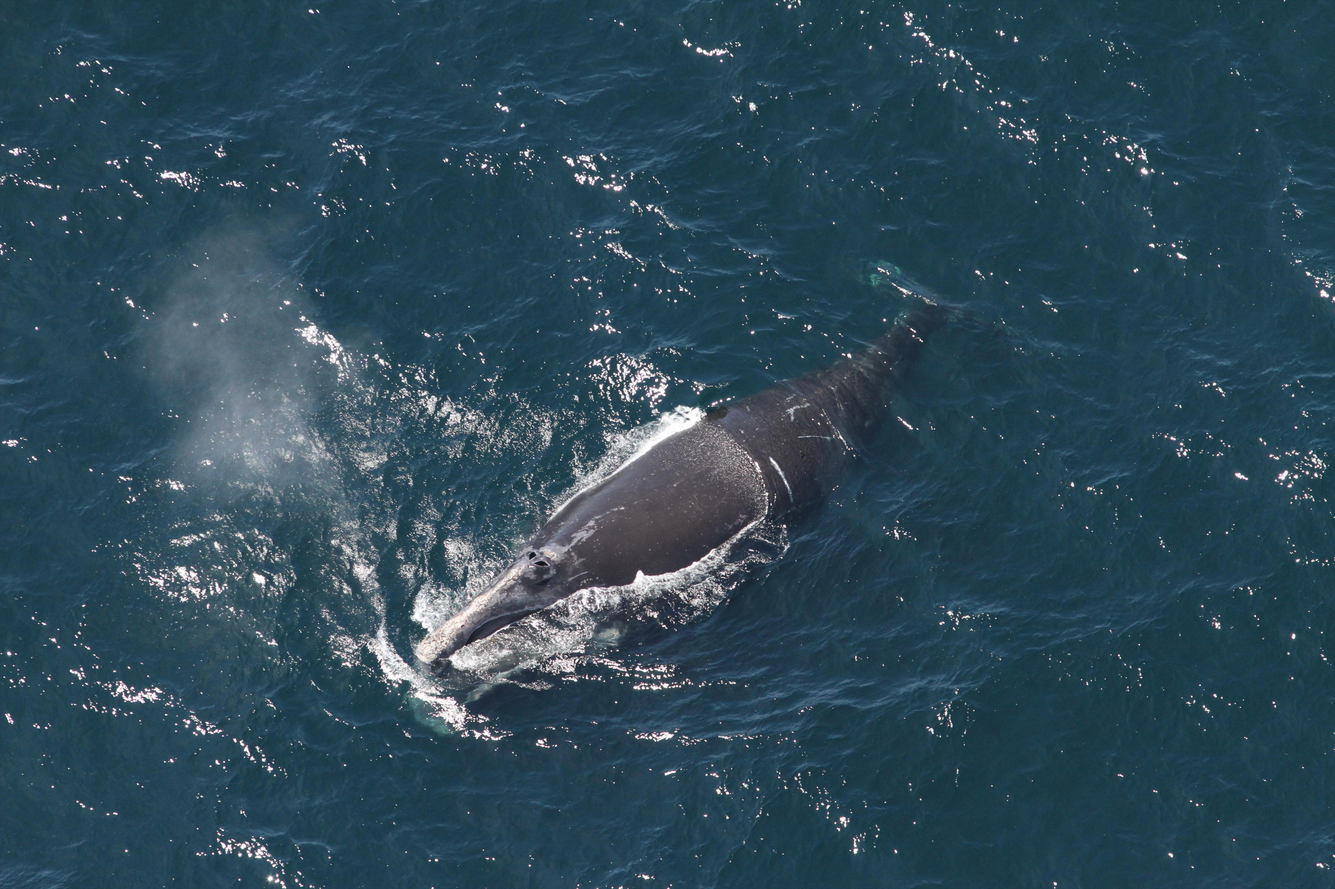whale: (400, 222, 1069, 743)
